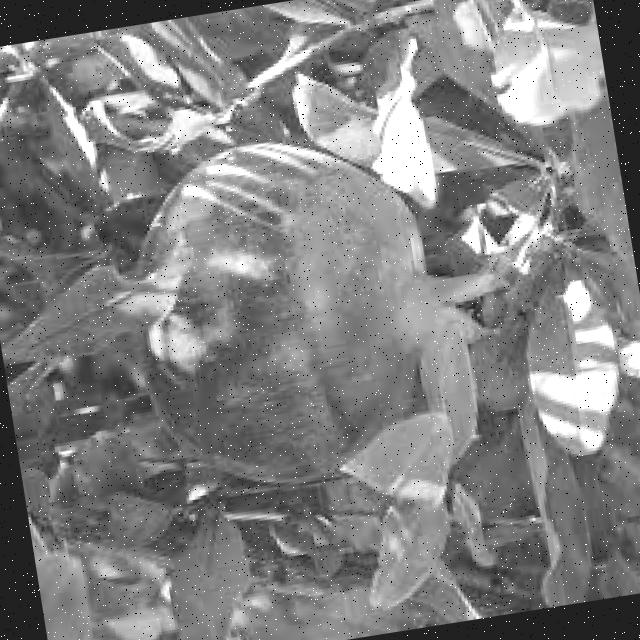Pomegranate: (104, 108, 534, 512)
